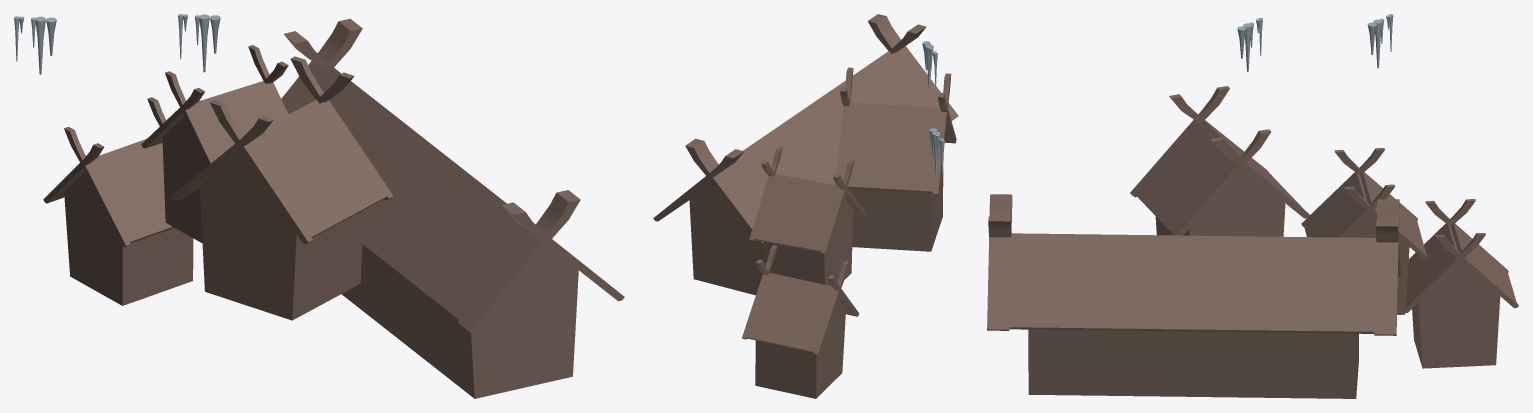
The model's file is MSH_Houses_02.fbx.
The picture shows the model from 3 angles, left to right: view 1: azimuth 30°, elevation 25°; view 2: azimuth 150°, elevation 25°; view 3: azimuth 270°, elevation 25°; orthographic projection. The views are drawn at different scales.
Visible parts, largest first — view 1: MSH_Houses_02; view 2: MSH_Houses_02; view 3: MSH_Houses_02.
Part boxes in pixels (bbox=[...]): MSH_Houses_02: bbox=[14, 14, 624, 398]; MSH_Houses_02: bbox=[653, 14, 958, 398]; MSH_Houses_02: bbox=[987, 14, 1518, 398].
Size of the model in its own units: 1674 by 1527 by 2389.
